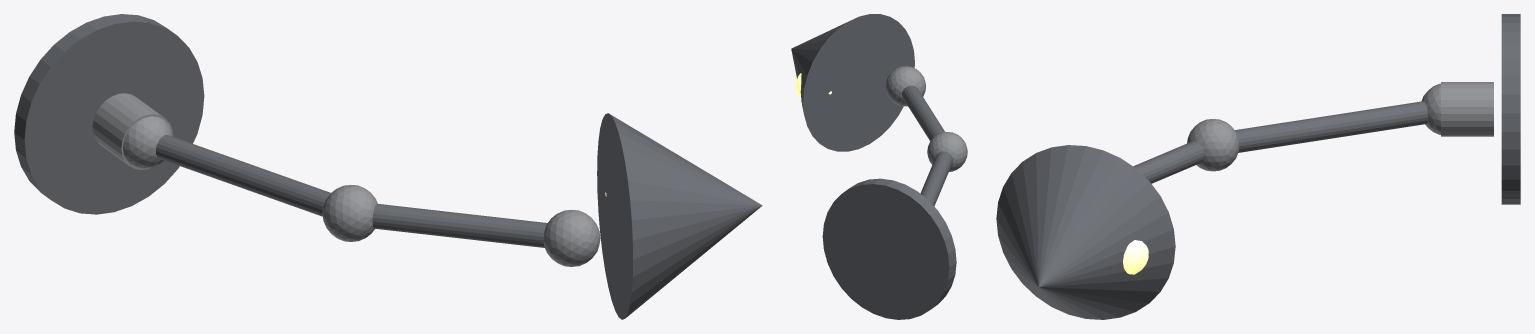
Rendered from desk_lamp.glb.
3 views of the same model, side by side, from view 1: azimuth 30°, elevation 25°; view 2: azimuth 150°, elevation 25°; view 3: azimuth 270°, elevation 25° (orthographic). The views are drawn at different scales.
Parts seen in each view (by area): view 1: lamp_base, lamp_shade, lamp_arm_lower, lamp_arm_upper, lamp_joint_2, lamp_joint_1, lamp_base_joint, lamp_joint_0; view 2: lamp_base, lamp_shade, lamp_arm_upper, lamp_joint_2, lamp_joint_1, lamp_arm_lower; view 3: lamp_shade, lamp_arm_lower, lamp_base, lamp_base_joint, lamp_joint_1, lamp_arm_upper, lamp_bulb, lamp_joint_0.
Part boxes in pixels (bbox=[...]): lamp_base: bbox=[14, 14, 204, 214]; lamp_shade: bbox=[597, 113, 762, 319]; lamp_arm_lower: bbox=[156, 135, 330, 216]; lamp_arm_upper: bbox=[372, 203, 547, 247]; lamp_joint_2: bbox=[543, 210, 600, 266]; lamp_joint_1: bbox=[322, 185, 377, 241]; lamp_base_joint: bbox=[92, 93, 173, 169]; lamp_joint_0: bbox=[123, 116, 172, 168]; lamp_base: bbox=[822, 178, 956, 319]; lamp_shade: bbox=[791, 14, 914, 151]; lamp_arm_upper: bbox=[902, 85, 944, 141]; lamp_joint_2: bbox=[885, 66, 925, 106]; lamp_joint_1: bbox=[927, 132, 967, 171]; lamp_arm_lower: bbox=[920, 151, 952, 206]; lamp_shade: bbox=[996, 145, 1175, 319]; lamp_arm_lower: bbox=[1235, 101, 1428, 152]; lamp_base: bbox=[1501, 14, 1520, 204]; lamp_base_joint: bbox=[1441, 82, 1493, 136]; lamp_joint_1: bbox=[1187, 119, 1239, 171]; lamp_arm_upper: bbox=[1133, 141, 1204, 183]; lamp_bulb: bbox=[1123, 240, 1148, 274]; lamp_joint_0: bbox=[1421, 83, 1440, 134].
Bounding box in the file's own units: 0.4872 × 0.18 × 0.4946.
